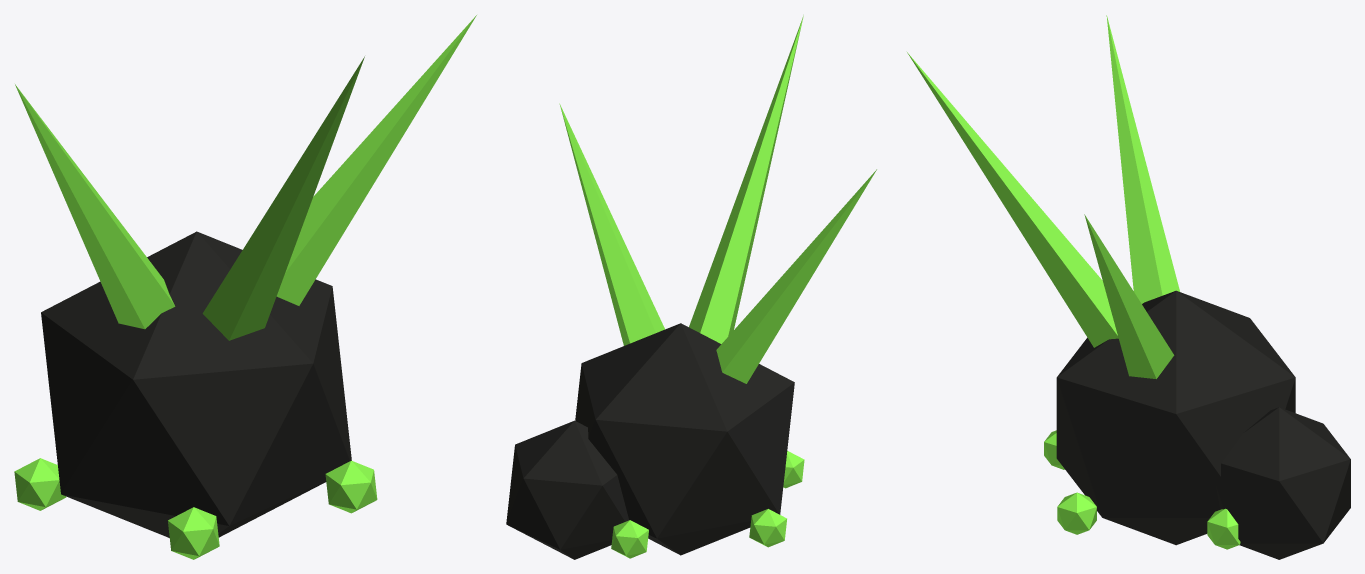
The model's file is TrophyStonefish.obj.
The picture shows the model from 3 angles, left to right: view 1: azimuth 30°, elevation 25°; view 2: azimuth 150°, elevation 25°; view 3: azimuth 270°, elevation 25°; orthographic projection. The views are drawn at different scales.
Parts seen in each view (by area): view 1: TrophyStonefish; view 2: TrophyStonefish; view 3: TrophyStonefish.
Part boxes in pixels (<box>): TrophyStonefish: <box>14,15,476,559</box>; TrophyStonefish: <box>506,15,876,559</box>; TrophyStonefish: <box>907,15,1350,559</box>.
Size of the model in its own units: 0.444 by 0.5827 by 0.475.
